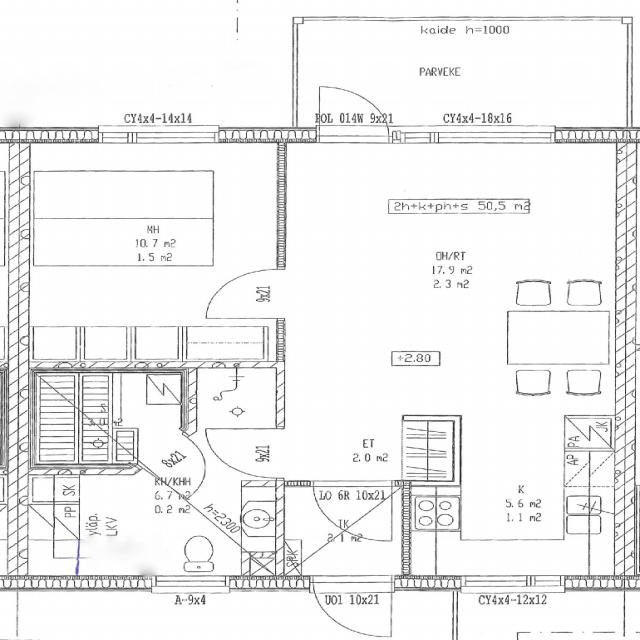door: (132, 430, 231, 500), (313, 576, 391, 640), (314, 480, 391, 540), (319, 78, 389, 142), (208, 270, 286, 318), (208, 429, 286, 477)
